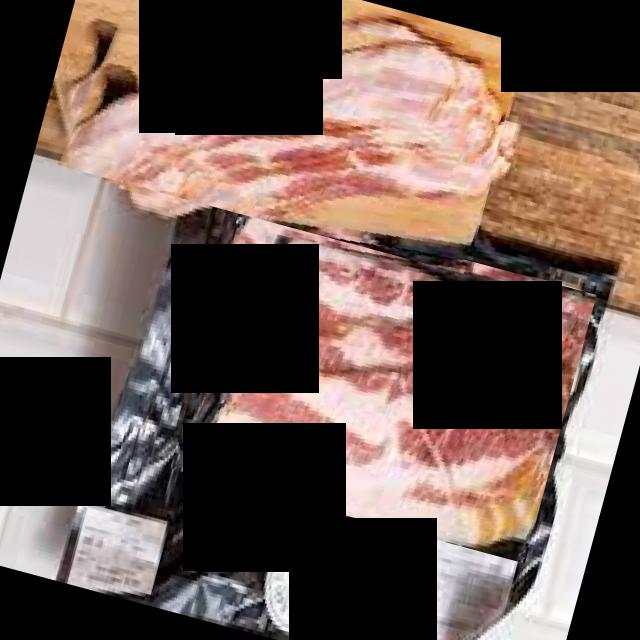bacon: (169, 200, 596, 564), (51, 0, 521, 273)
